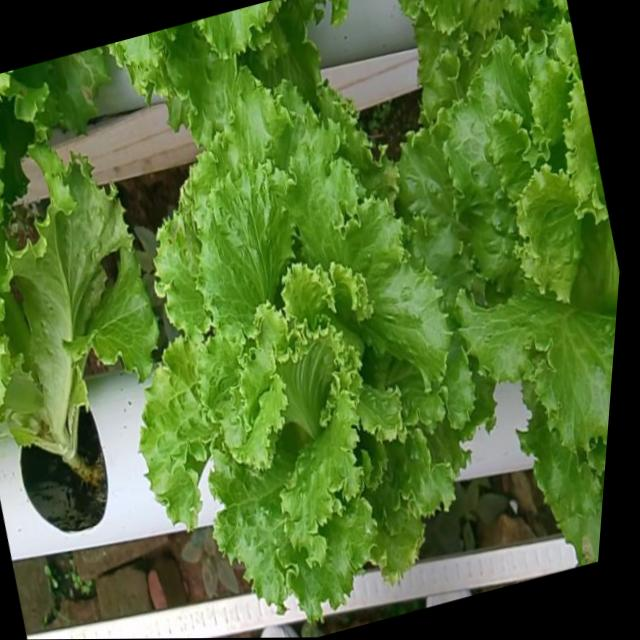Mature: (134, 81, 473, 619), (395, 40, 619, 464)
